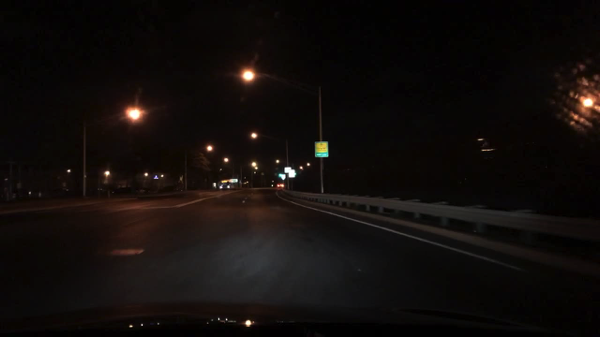car: (11, 188, 41, 201), (98, 186, 116, 195), (163, 185, 183, 193), (219, 182, 235, 191), (59, 188, 74, 195), (138, 188, 151, 195), (276, 183, 286, 190), (149, 189, 159, 195), (240, 181, 251, 186)
person: (212, 181, 217, 192)
traffic light: (278, 172, 282, 180)
traffic sign: (314, 143, 329, 158), (288, 171, 295, 178), (280, 174, 286, 181), (284, 168, 290, 173), (229, 179, 236, 182)
